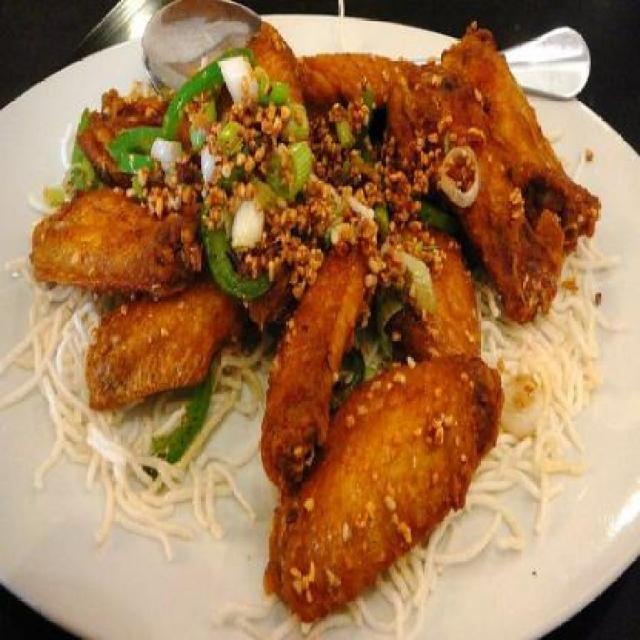Deep fried chicken wing: (41, 45, 574, 581)
